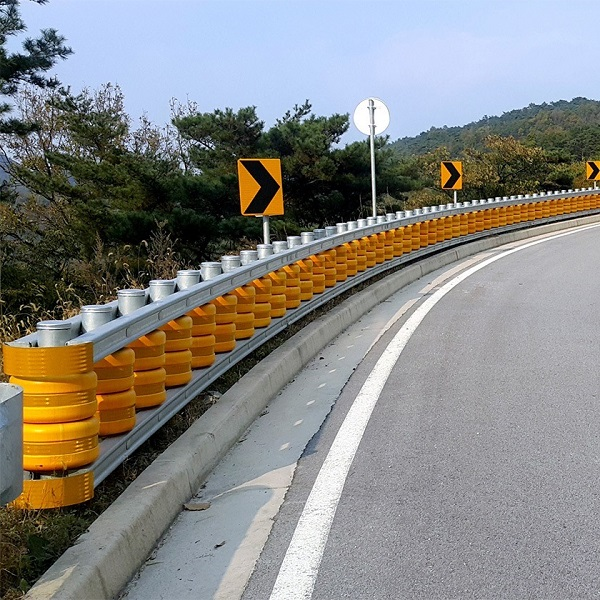Barrier: (28, 247, 296, 499), (268, 193, 600, 290)
